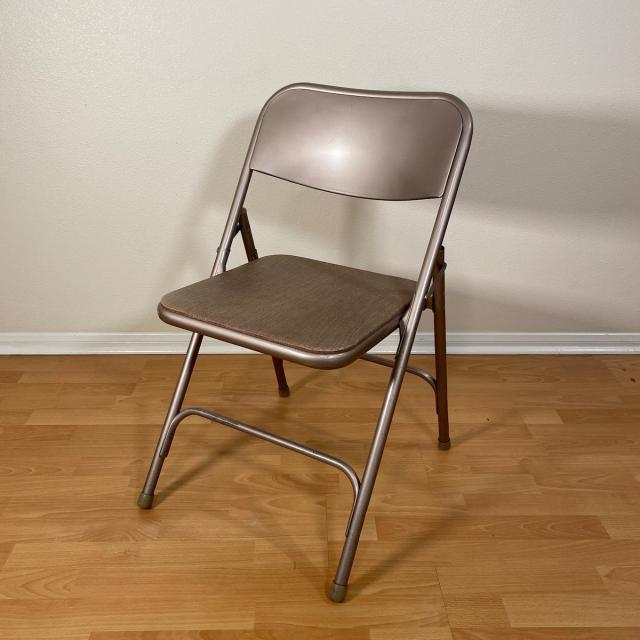chair vintage: (127, 76, 478, 605)
